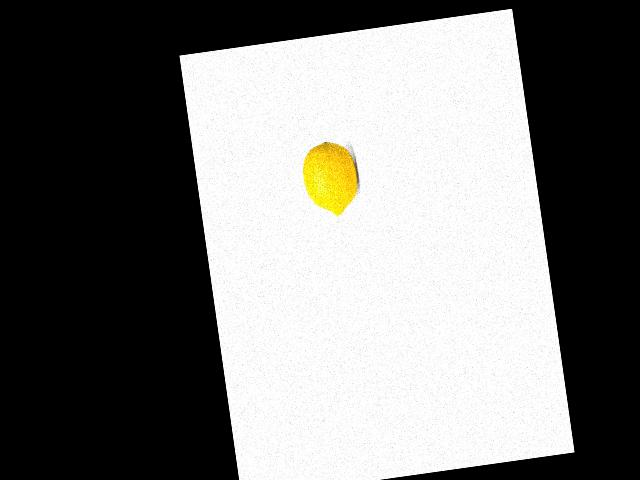lemon: (300, 134, 362, 221)
